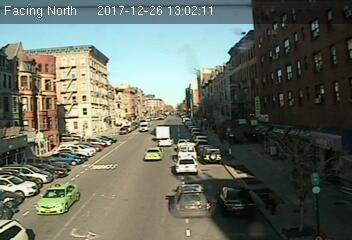car: (171, 184, 213, 218), (36, 184, 79, 215), (218, 183, 255, 215), (175, 156, 198, 175), (143, 147, 163, 160), (204, 148, 220, 164), (158, 137, 174, 146)
truck: (175, 141, 199, 158), (153, 124, 171, 140)
